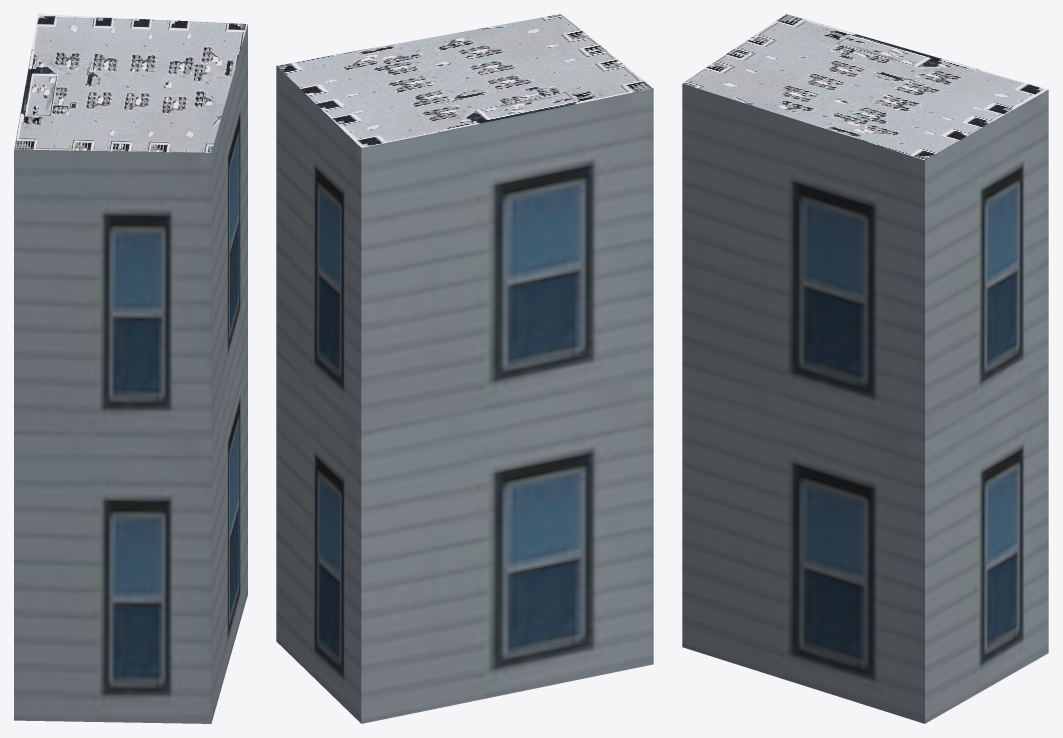
File: ResTex__3597.fbx
The picture shows the model from 3 angles, left to right: view 1: azimuth 30°, elevation 25°; view 2: azimuth 150°, elevation 25°; view 3: azimuth 270°, elevation 25°; orthographic projection. The views are drawn at different scales.
Visible parts, largest first — view 1: CityEngineMaterial_18_m, CityEngineMaterial_8_m; view 2: CityEngineMaterial_18_m, CityEngineMaterial_8_m; view 3: CityEngineMaterial_18_m, CityEngineMaterial_8_m.
Boxes of the visible parts, x1,y1,x2,y2 form: CityEngineMaterial_18_m: [14, 24, 247, 723]; CityEngineMaterial_8_m: [14, 14, 247, 152]; CityEngineMaterial_18_m: [276, 66, 653, 723]; CityEngineMaterial_8_m: [276, 14, 653, 147]; CityEngineMaterial_18_m: [682, 83, 1048, 723]; CityEngineMaterial_8_m: [682, 14, 1048, 160].
Size of the model in its own units: 3.34 by 6 by 3.54.
Materials: 2 (2 with a texture image).
